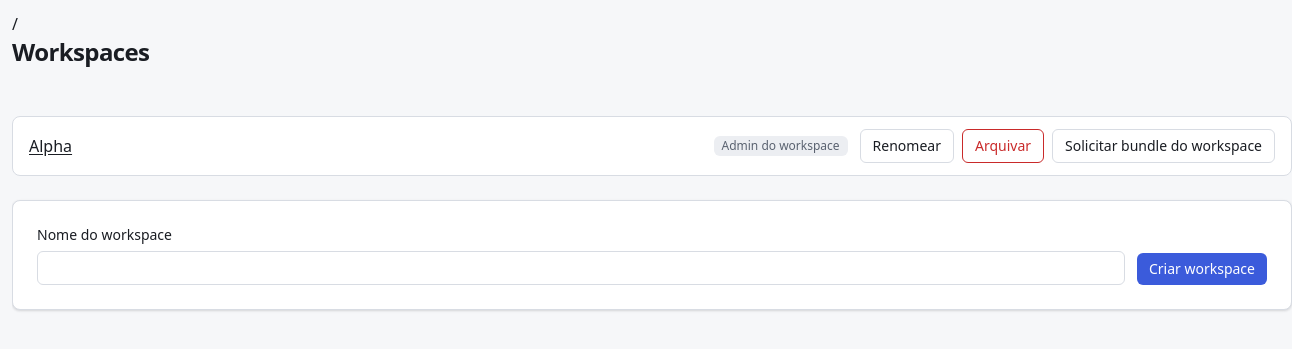
Scenario: WorkspaceListPage (NAV-01, NAV-06..08, NAV-13..23) › a 503 shows the unavailable message and never retries automatically (XPRT-15)
This screenshot has width=1292, height=349.
Check: the link "Alpha" is shown, box [29, 135, 72, 157]
What coordinates should you click on to do the following:
click the button "Solicitar bundle do workspace"
I would click on:
 (1164, 146)
Its box is [1052, 129, 1275, 163].
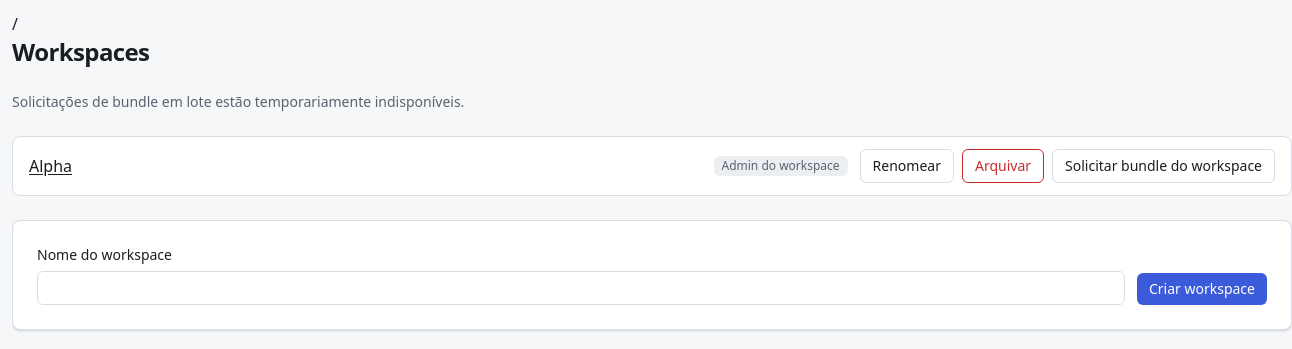
Check: the text with test id "workspace-announcement" reads "Solicitações de bundle em lote estão temporariamente indisponíveis.", box [12, 92, 464, 111]
